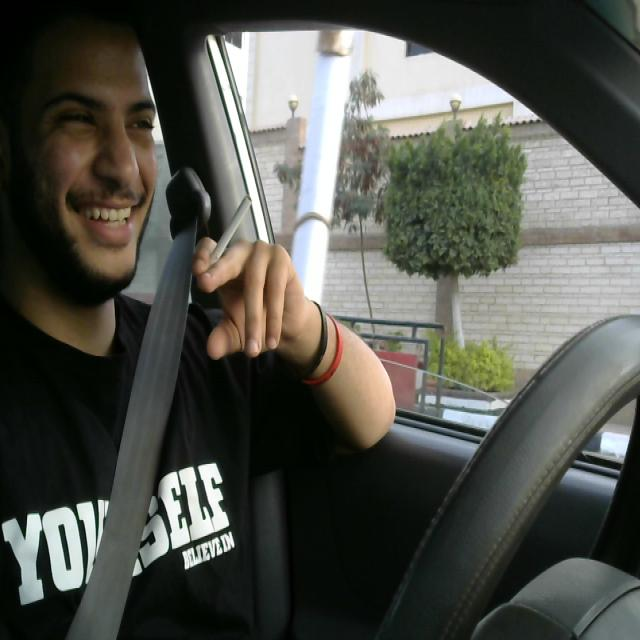smoking: (198, 192, 256, 289)
